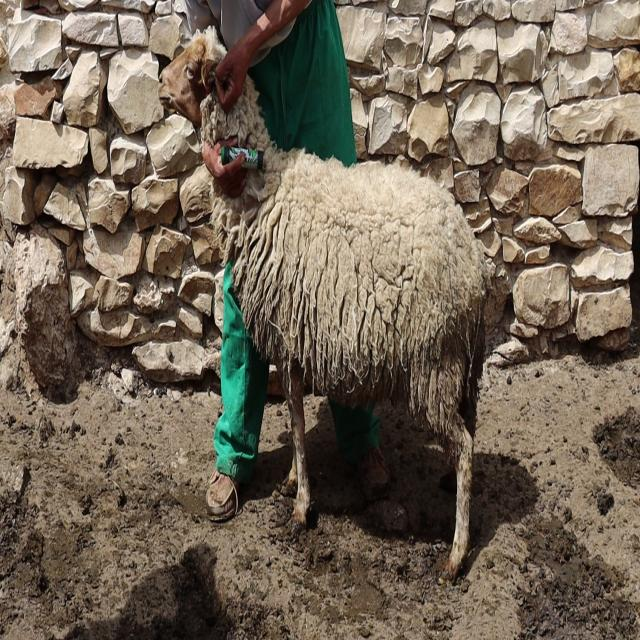Score_3: (158, 29, 494, 577)
